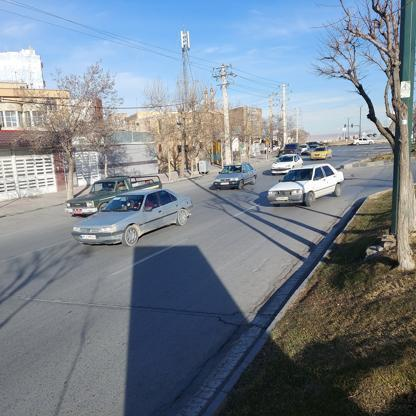Car: (89, 188, 194, 242), (73, 167, 161, 210), (269, 163, 343, 206), (212, 163, 258, 190), (270, 153, 305, 172), (353, 132, 377, 150), (308, 146, 331, 160)
